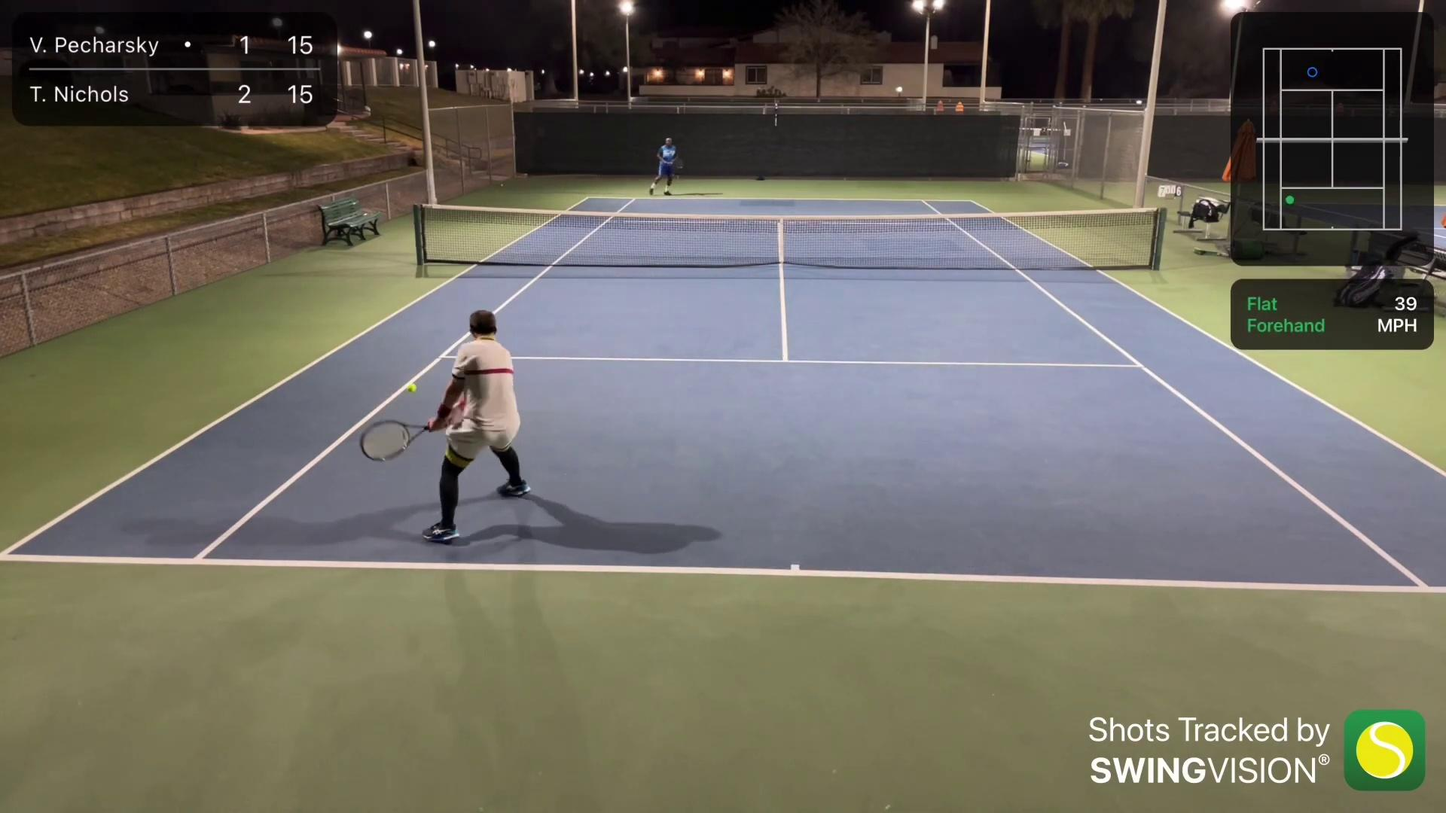ball: (404, 382, 419, 393), (1100, 97, 1101, 99)
